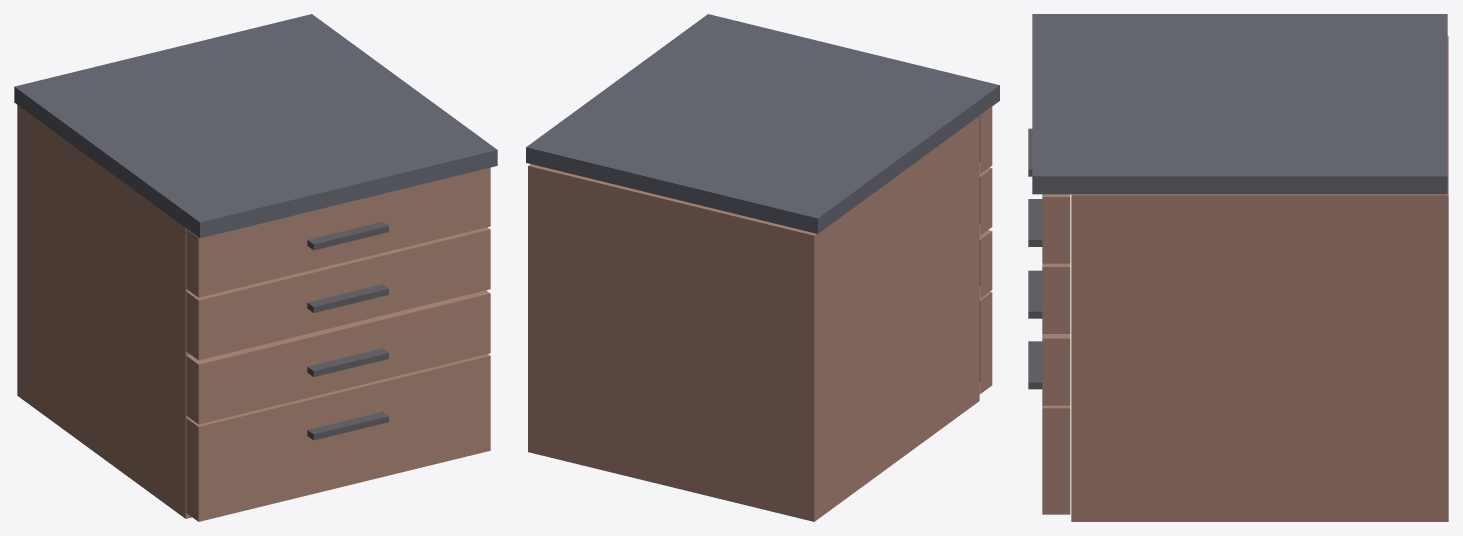
Rendered from Stoleshnica3.fbx.
3 renders of one model, left to right at view 1: azimuth 30°, elevation 25°; view 2: azimuth 150°, elevation 25°; view 3: azimuth 270°, elevation 25°, orthographic. The views are drawn at different scales.
Visible parts, largest first — view 1: столешница3; view 2: столешница3; view 3: столешница3.
Part boxes in pixels (bbox=[...]): столешница3: bbox=[14, 14, 497, 521]; столешница3: bbox=[526, 14, 999, 521]; столешница3: bbox=[1028, 14, 1448, 521].
Size of the model in its own units: 114 by 114 by 125.
